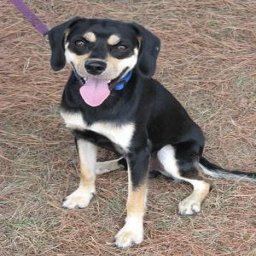dog: (49, 14, 234, 249)
